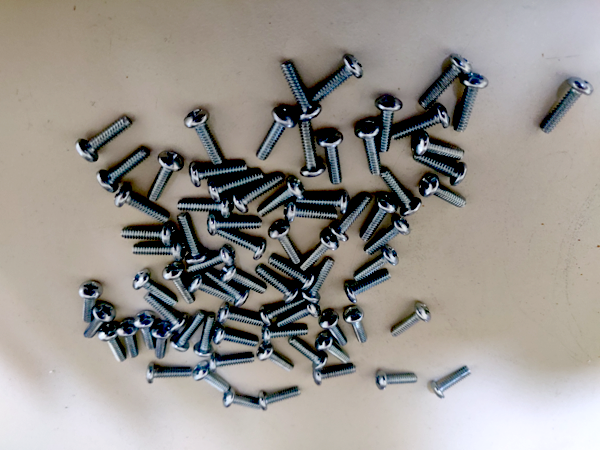shortscrew: (419, 54, 472, 110), (542, 77, 594, 134), (76, 115, 134, 163), (280, 59, 323, 122), (309, 55, 363, 104), (96, 146, 150, 194), (184, 108, 225, 165), (114, 185, 170, 224), (256, 108, 297, 161), (380, 167, 423, 217), (329, 193, 372, 243), (392, 103, 450, 140), (454, 72, 489, 133), (232, 173, 284, 214), (148, 150, 186, 202), (363, 215, 411, 256), (360, 192, 398, 242), (255, 264, 301, 305), (208, 170, 264, 203), (352, 246, 400, 284), (268, 255, 317, 292), (133, 269, 179, 308), (413, 153, 467, 186), (143, 293, 187, 333), (203, 270, 249, 308), (214, 228, 266, 261), (343, 269, 392, 304), (299, 230, 339, 272), (419, 174, 468, 208), (177, 213, 209, 265), (412, 131, 467, 161), (170, 309, 207, 353), (188, 273, 238, 305), (302, 257, 336, 304), (189, 161, 248, 188), (355, 120, 383, 176), (376, 95, 403, 153), (299, 120, 326, 178), (268, 220, 302, 266), (162, 263, 196, 306), (220, 265, 268, 295), (317, 130, 343, 185), (430, 365, 472, 399), (391, 301, 431, 336), (186, 246, 236, 274), (288, 335, 329, 369), (177, 196, 233, 220), (260, 299, 307, 327), (121, 224, 176, 247), (276, 300, 321, 328), (83, 303, 117, 340), (207, 214, 264, 236), (98, 322, 128, 363), (217, 302, 263, 327), (258, 386, 302, 412), (257, 342, 295, 372), (316, 331, 350, 363), (212, 325, 259, 348), (194, 361, 230, 391), (319, 309, 348, 346), (79, 280, 103, 324), (193, 313, 217, 357), (146, 363, 192, 385), (343, 305, 368, 345), (314, 364, 357, 387), (209, 352, 256, 373), (134, 310, 156, 353), (117, 320, 140, 359), (151, 322, 173, 360), (376, 371, 417, 391), (223, 390, 262, 411)
